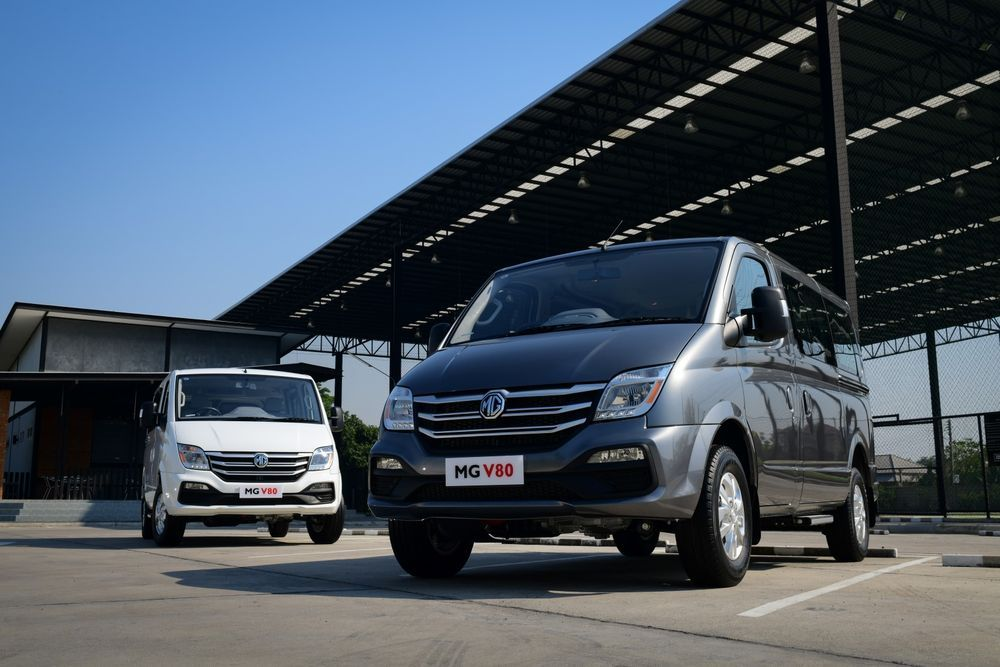van: (364, 235, 882, 586), (137, 362, 347, 545)
